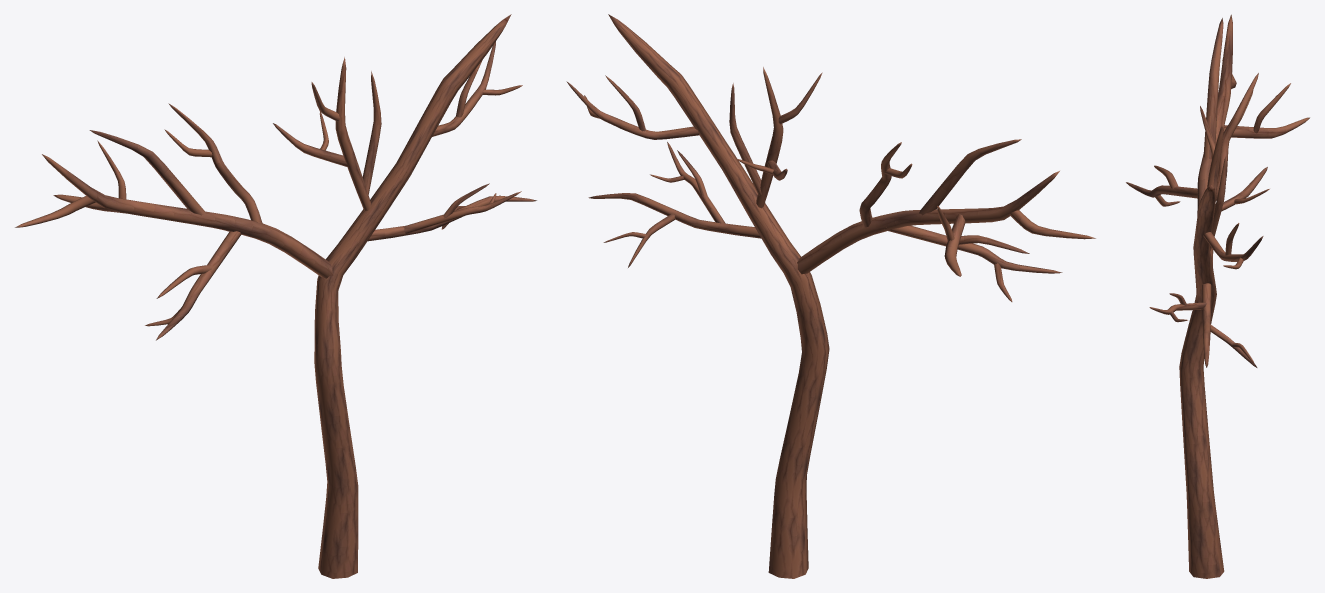
Rendered from DeadTree_4.glb.
The picture shows the model from 3 angles, left to right: view 1: azimuth 30°, elevation 25°; view 2: azimuth 150°, elevation 25°; view 3: azimuth 270°, elevation 25°; orthographic projection. The views are drawn at different scales.
Visible parts, largest first — view 1: DeadTree_4; view 2: DeadTree_4; view 3: DeadTree_4.
Part boxes in pixels (x1=…): DeadTree_4: x1=15, y1=14, x2=536, y2=578; DeadTree_4: x1=566, y1=14, x2=1095, y2=578; DeadTree_4: x1=1126, y1=14, x2=1309, y2=578.
Bounding box in the file's own units: 4.85 × 4.61 × 1.67.
Materials: 1 (1 with a texture image).
